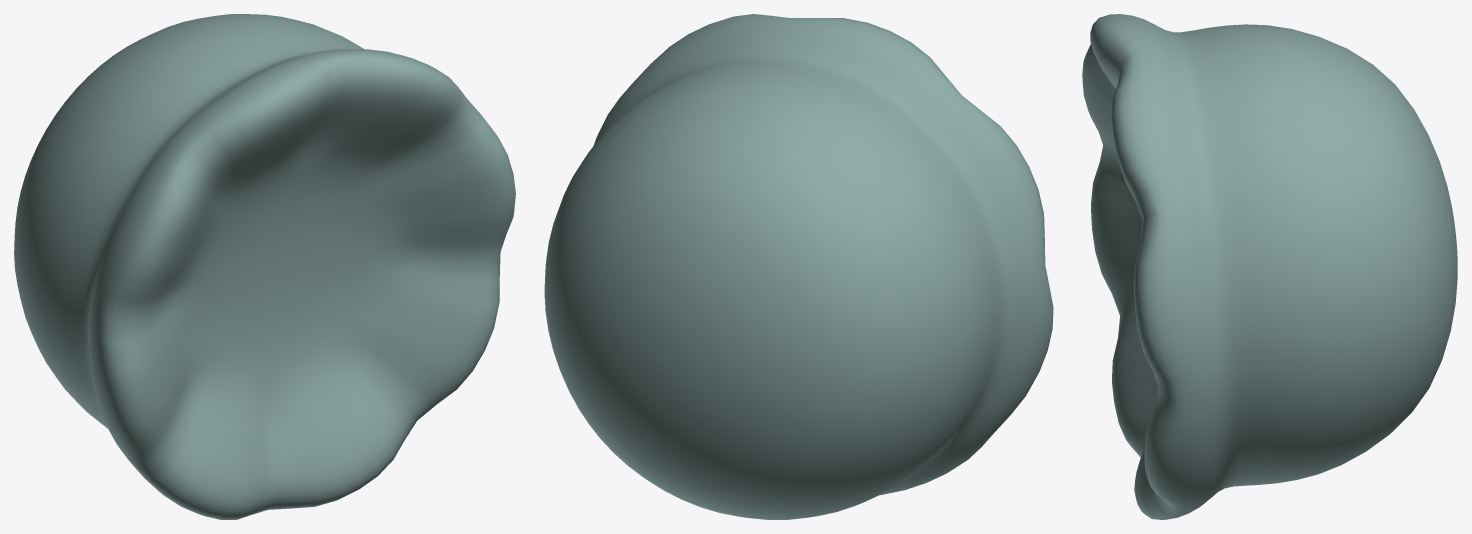
Rendered from bingjilingqiu_01.fbx.
3 views of the same model, side by side, from view 1: azimuth 30°, elevation 25°; view 2: azimuth 150°, elevation 25°; view 3: azimuth 270°, elevation 25° (orthographic).
Visible parts, largest first — view 1: pasted__pSphere3; view 2: pasted__pSphere3; view 3: pasted__pSphere3.
Boxes of the visible parts, x1,y1,x2,y2 form: pasted__pSphere3: (14, 14, 515, 519); pasted__pSphere3: (544, 14, 1053, 519); pasted__pSphere3: (1082, 14, 1457, 519).
Size of the model in its own units: 0.8502 by 0.8525 by 0.632.
